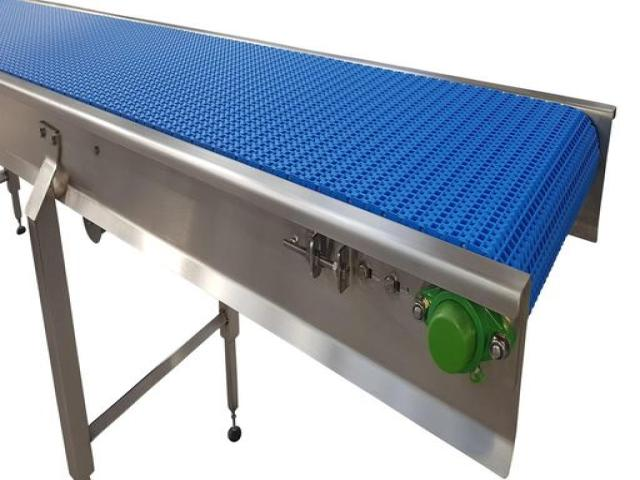conveyor: (0, 0, 619, 479)
